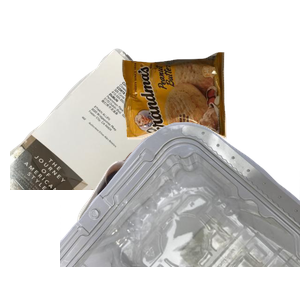glass: (74, 120, 244, 300)
paper: (10, 46, 250, 226)
plastic: (60, 120, 300, 300)
trash: (120, 50, 300, 182)
